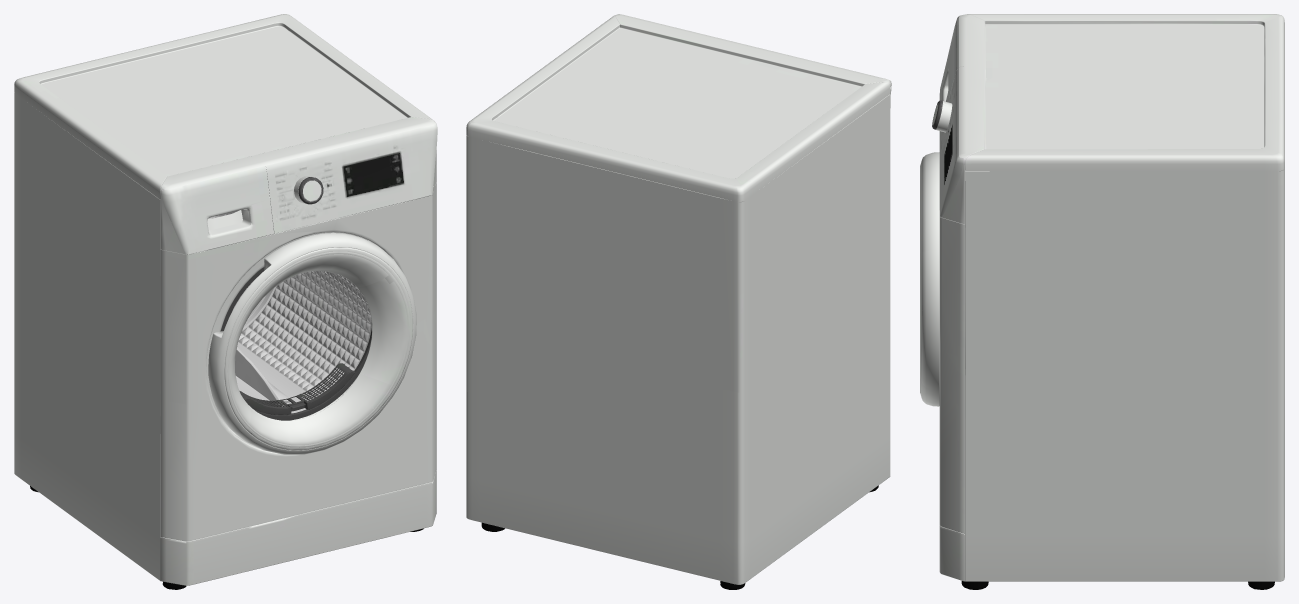
File: 70525467-mini.glb
The picture shows the model from 3 angles, left to right: view 1: azimuth 30°, elevation 25°; view 2: azimuth 150°, elevation 25°; view 3: azimuth 270°, elevation 25°; orthographic projection. The views are drawn at different scales.
Parts seen in each view (by area): view 1: A0002; view 2: A0002; view 3: A0002.
Boxes of the visible parts, box(x1,y1,x2,y2) form: A0002: box(14, 14, 437, 589); A0002: box(466, 14, 891, 589); A0002: box(920, 14, 1284, 589).
Bounding box in the file's own units: 0.6006 × 0.8442 × 0.6382.
Materials: 2 (2 with a texture image).
